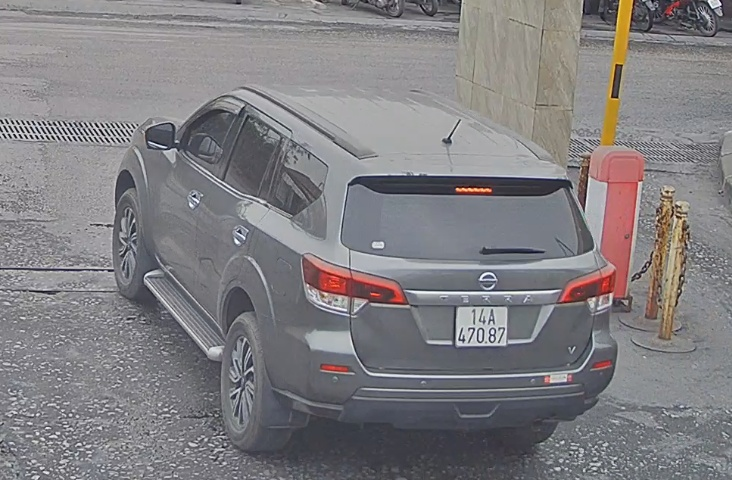vehicle plate: (452, 298, 516, 346)
